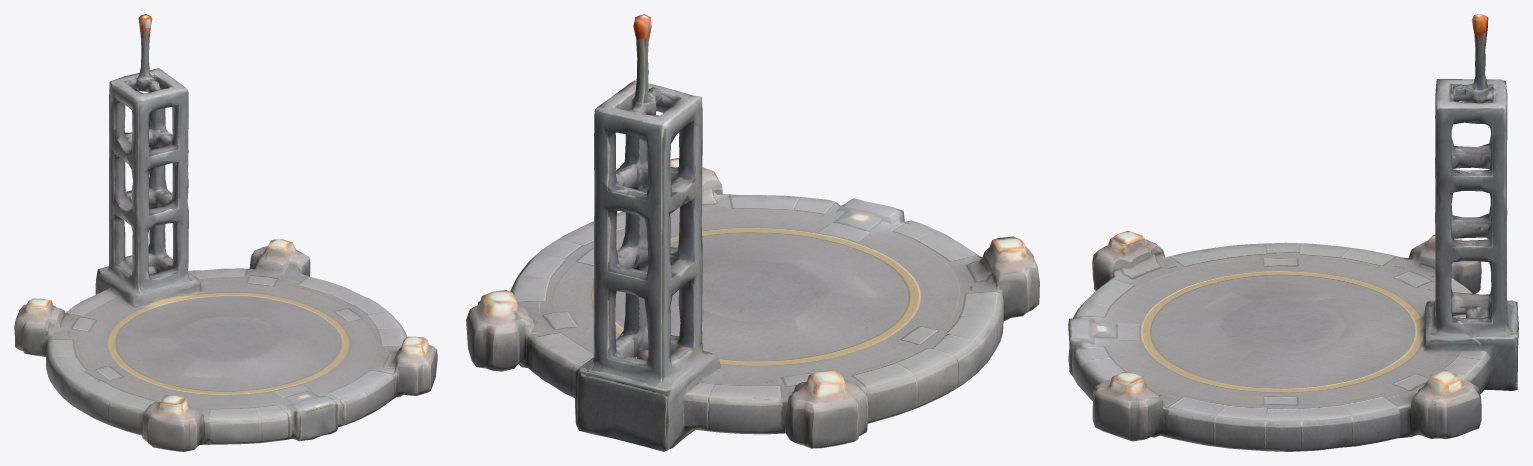
File: SciFi Landing Pad.fbx
3 renders of one model, left to right at view 1: azimuth 30°, elevation 25°; view 2: azimuth 150°, elevation 25°; view 3: azimuth 270°, elevation 25°, orthographic. The views are drawn at different scales.
Parts seen in each view (by area): view 1: texture_mapping; view 2: texture_mapping; view 3: texture_mapping.
Boxes of the visible parts, bbox=[...] form: texture_mapping: bbox=[14, 14, 437, 451]; texture_mapping: bbox=[466, 14, 1039, 451]; texture_mapping: bbox=[1068, 14, 1518, 451].
Size of the model in its own units: 96.12 by 87.96 by 100.
Materials: 1 (1 with a texture image).
